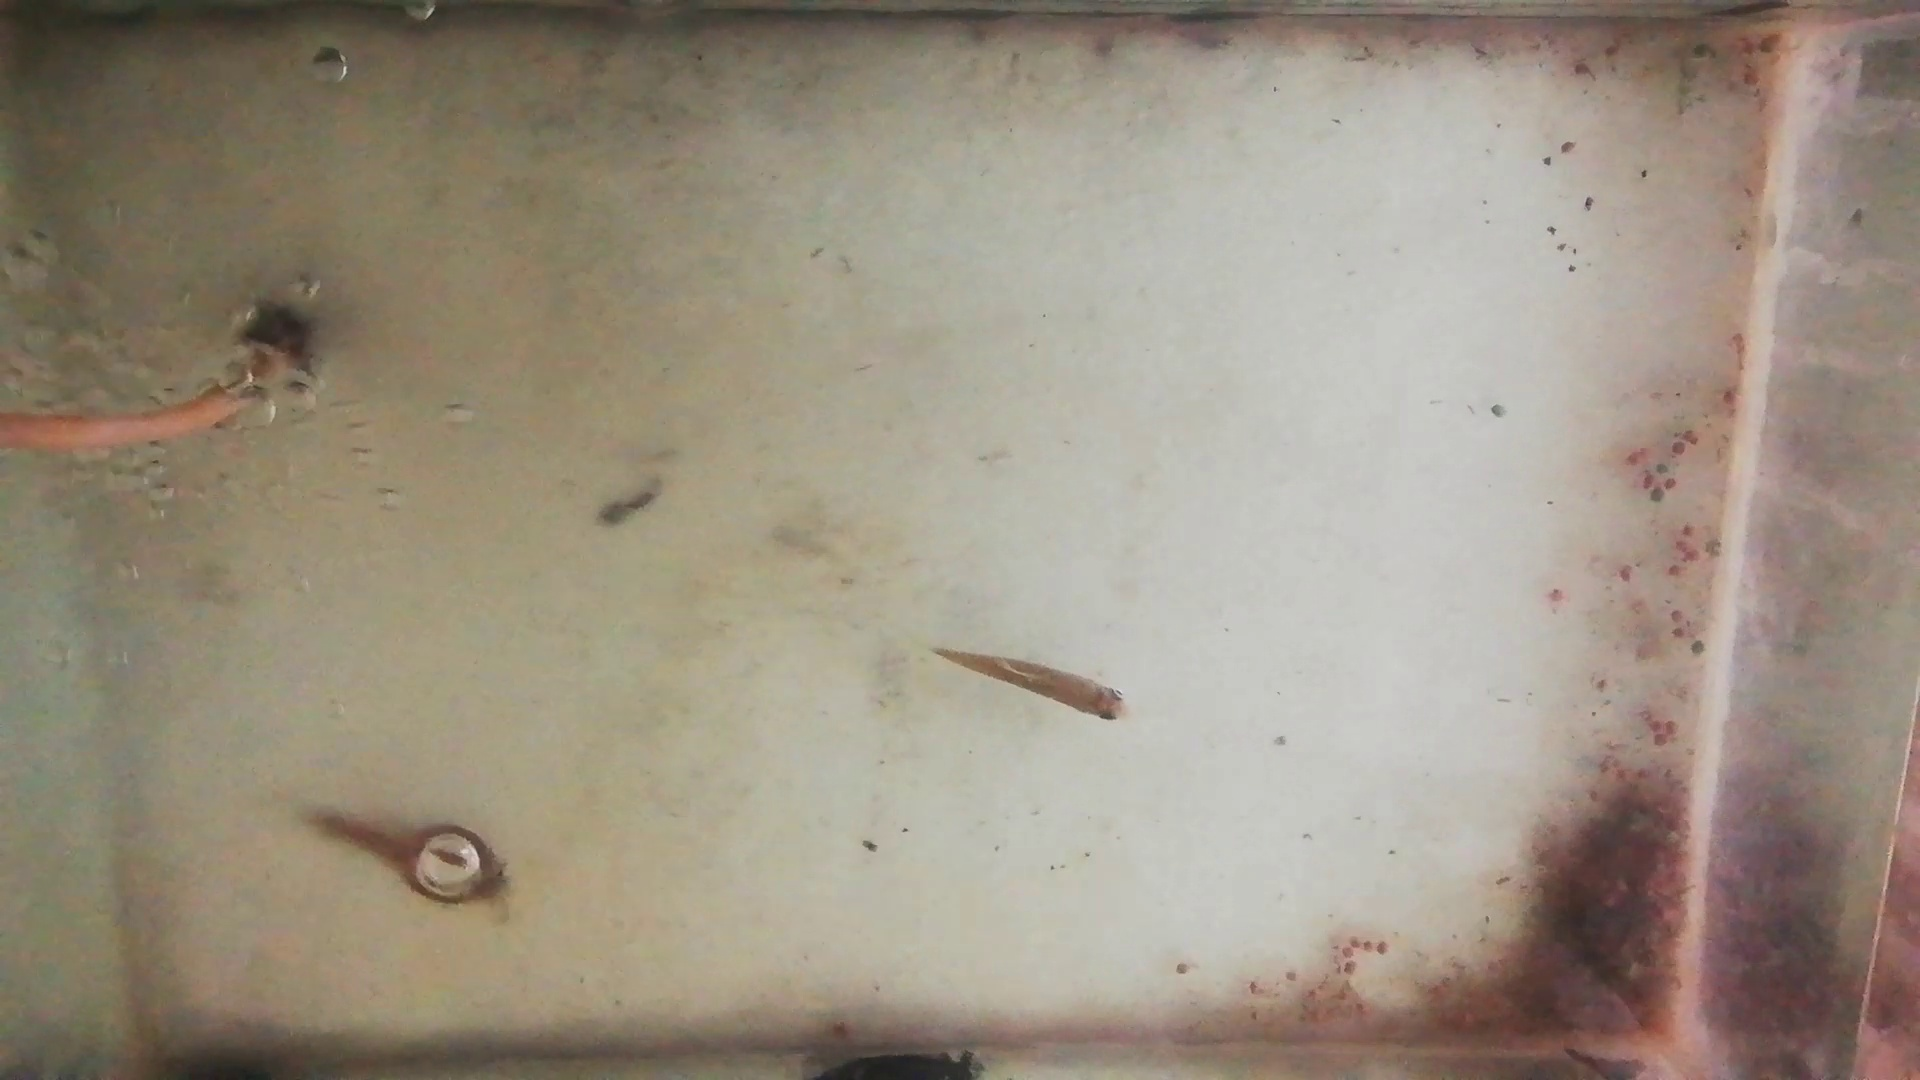fish: (303, 804, 510, 905), (924, 644, 1131, 724)
